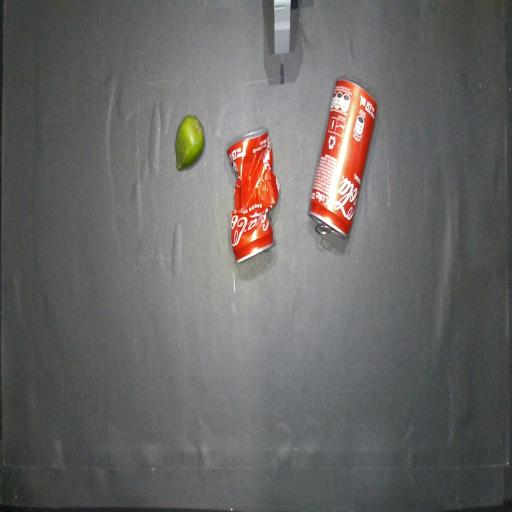higo: (175, 115, 204, 170)
lata: (308, 78, 377, 237)
lata_defectuoso: (227, 128, 279, 261)
